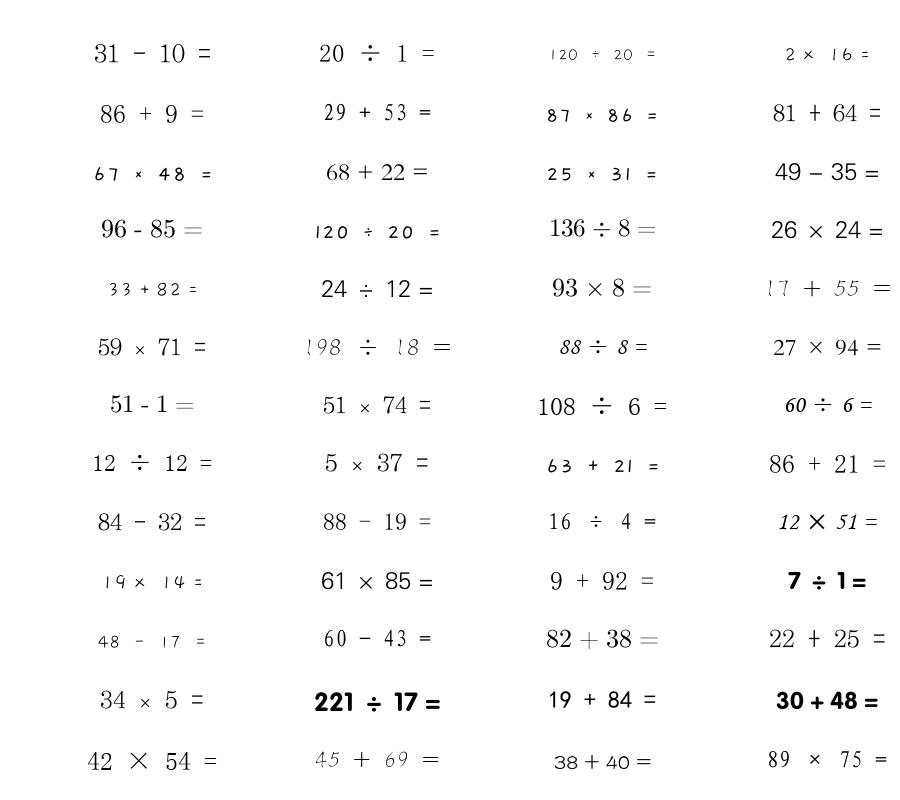MQ: (314, 692, 441, 712), (303, 339, 451, 356), (546, 629, 659, 650), (94, 43, 211, 63), (537, 397, 667, 415), (87, 752, 217, 770), (769, 454, 886, 473), (769, 629, 886, 648), (767, 750, 887, 768), (764, 280, 891, 297), (771, 220, 884, 239), (321, 571, 434, 590), (315, 751, 440, 768), (319, 44, 435, 62), (92, 454, 212, 471), (325, 453, 429, 472), (100, 690, 204, 709), (323, 103, 431, 121), (773, 104, 881, 122), (98, 338, 206, 356), (323, 396, 431, 414), (98, 513, 206, 531), (548, 512, 656, 530), (323, 629, 431, 647), (101, 219, 203, 238), (776, 691, 878, 710), (549, 219, 656, 237), (321, 280, 434, 297), (552, 278, 652, 297), (775, 163, 880, 181), (100, 105, 204, 123), (550, 572, 654, 590), (773, 339, 882, 356), (323, 513, 431, 530), (548, 691, 656, 708), (326, 164, 429, 181), (92, 167, 213, 181), (314, 226, 441, 239), (101, 574, 203, 590), (545, 459, 660, 473), (777, 514, 877, 530), (545, 108, 659, 122), (546, 167, 658, 181), (554, 754, 651, 770), (98, 635, 207, 649), (110, 395, 194, 413), (788, 571, 866, 590), (107, 282, 198, 297), (548, 49, 657, 61), (558, 340, 647, 354), (783, 398, 872, 412), (784, 48, 870, 62)
